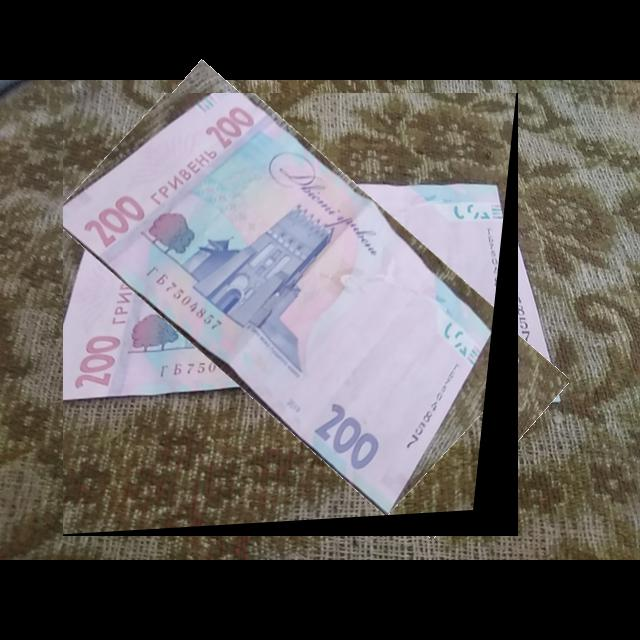200uah: (63, 93, 498, 521)
